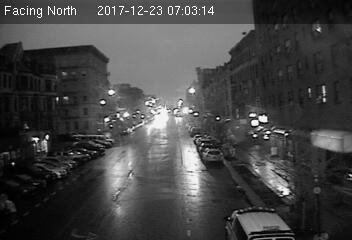car: (201, 148, 223, 163)
police: (222, 201, 294, 240)
